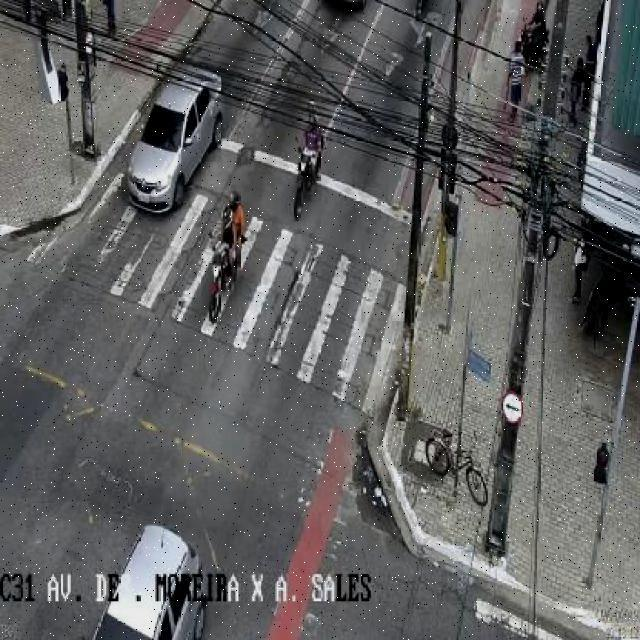Car: (119, 60, 225, 226)
Cycle: (206, 186, 252, 320), (290, 107, 328, 216)
